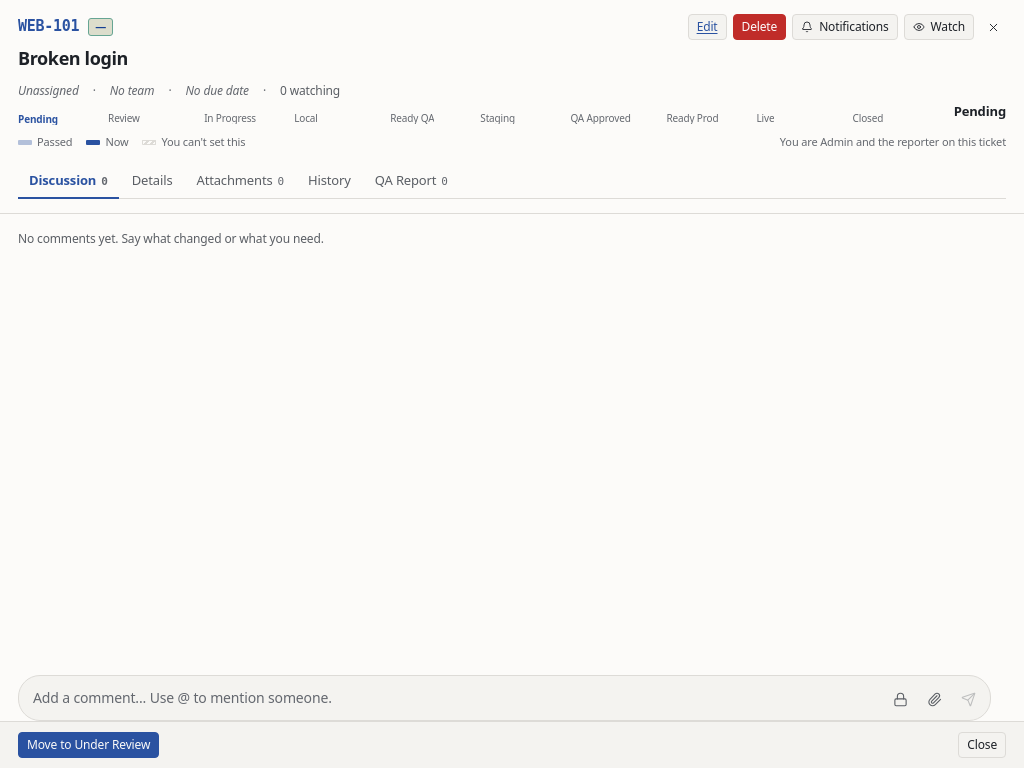
Test: TicketDetailDrawer › loads the ticket by its human id and shows the three-section drawer layout
Expected: the text "WEB-101" is shown, [18,16,79,38]
Expected: the tab "Discussion0" is shown, [18,164,119,199]
Click the tab "Details" at point(152, 182), box [121,164,184,199]
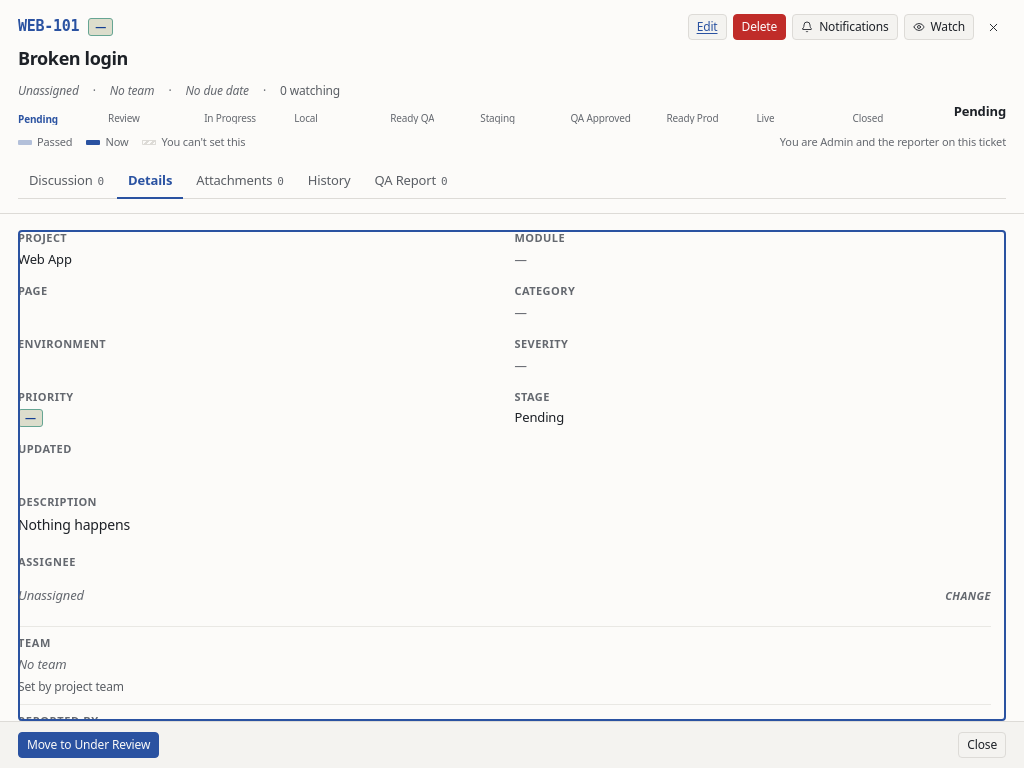
Click the tab "History" at point(329, 182), box [297,164,362,199]
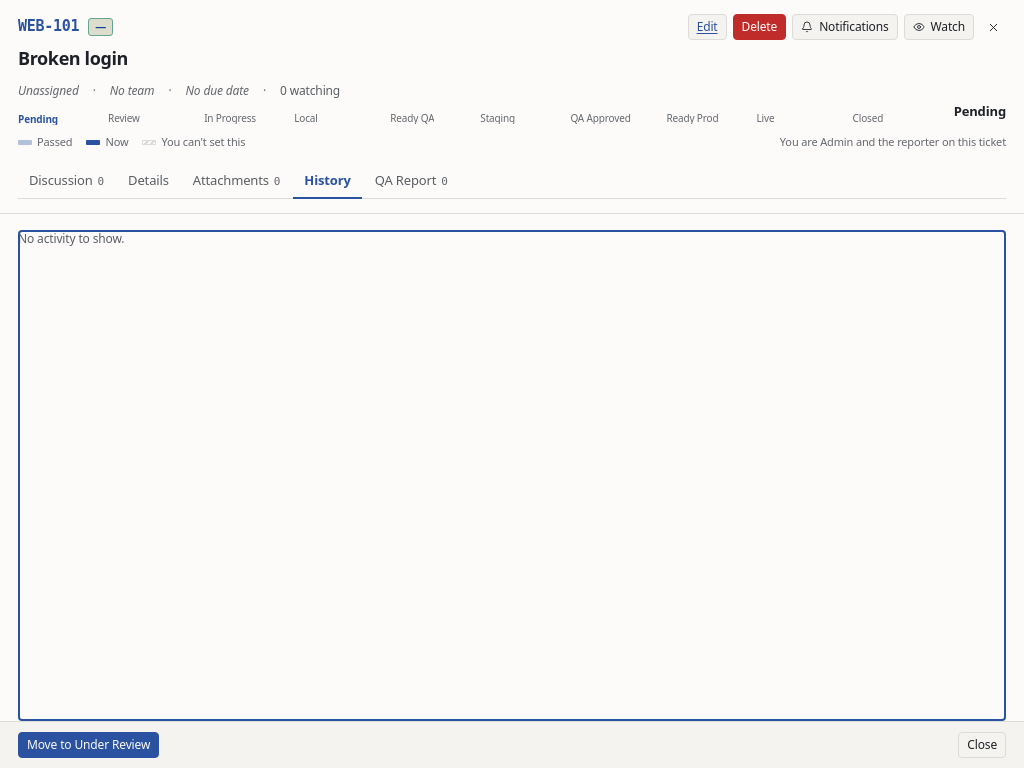
Now the text "No activity to show." is shown, box [18,230,124,247]
